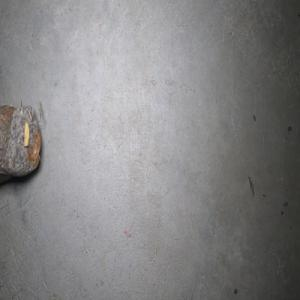Rock: (0, 100, 41, 183)
